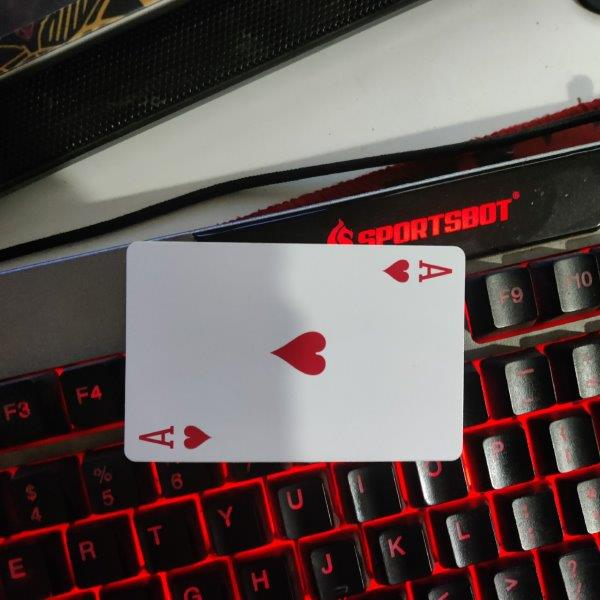Ace of Hearts: (123, 239, 466, 465)
